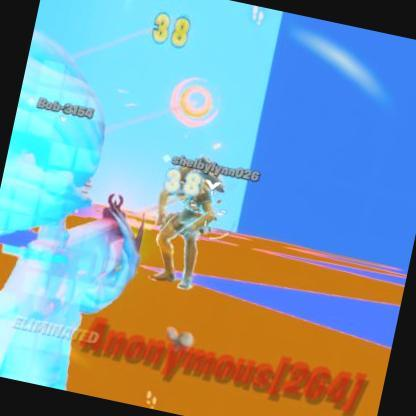person: (140, 158, 238, 296)
